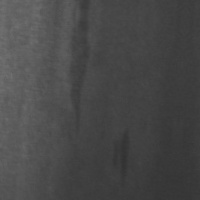inclusion: (58, 14, 98, 138), (105, 120, 138, 190)
